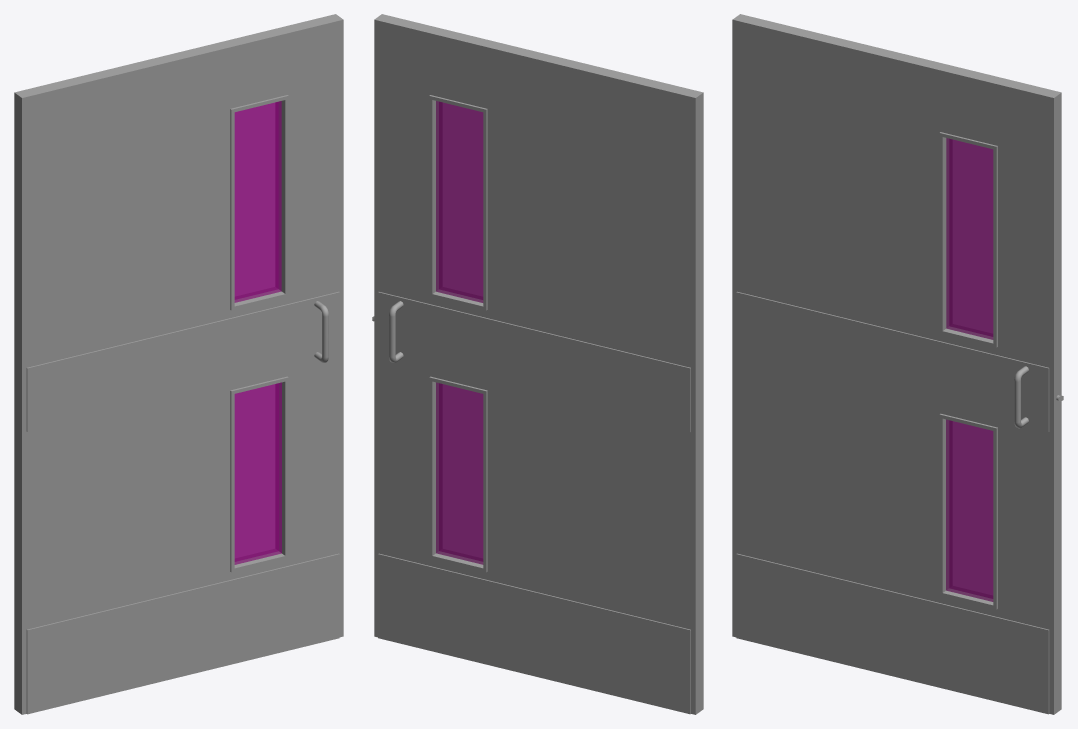
The model's file is door1.fbx.
The picture shows the model from 3 angles, left to right: view 1: azimuth 30°, elevation 25°; view 2: azimuth 150°, elevation 25°; view 3: azimuth 330°, elevation 25°; orthographic projection.
Visible parts, largest first — view 1: corridorDoor; view 2: corridorDoor; view 3: corridorDoor.
Part boxes in pixels (box(x1,y1,x2,y2)): corridorDoor: box(14, 14, 343, 714); corridorDoor: box(372, 14, 703, 714); corridorDoor: box(732, 14, 1063, 714).
Size of the model in its own units: 122 by 220 by 18.96.
